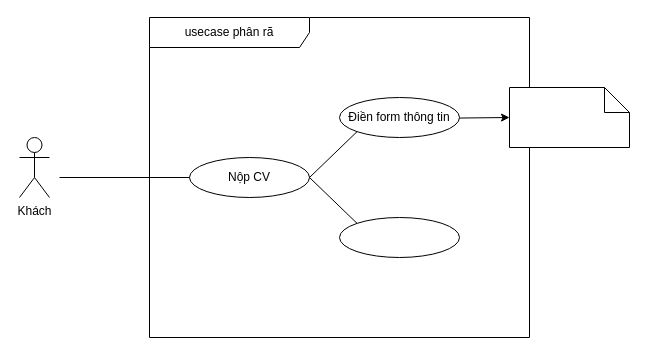
The diagram is 647 pixels wide and 355 high, and some of its shapes have lost their labels. Here are the shapes that lost their labels. From the top down, the centre of each, then its label:
At pixel 569 117: "CV ở dạng pdf".
At pixel 399 237: "Gửi đơn ứng tuyển".
